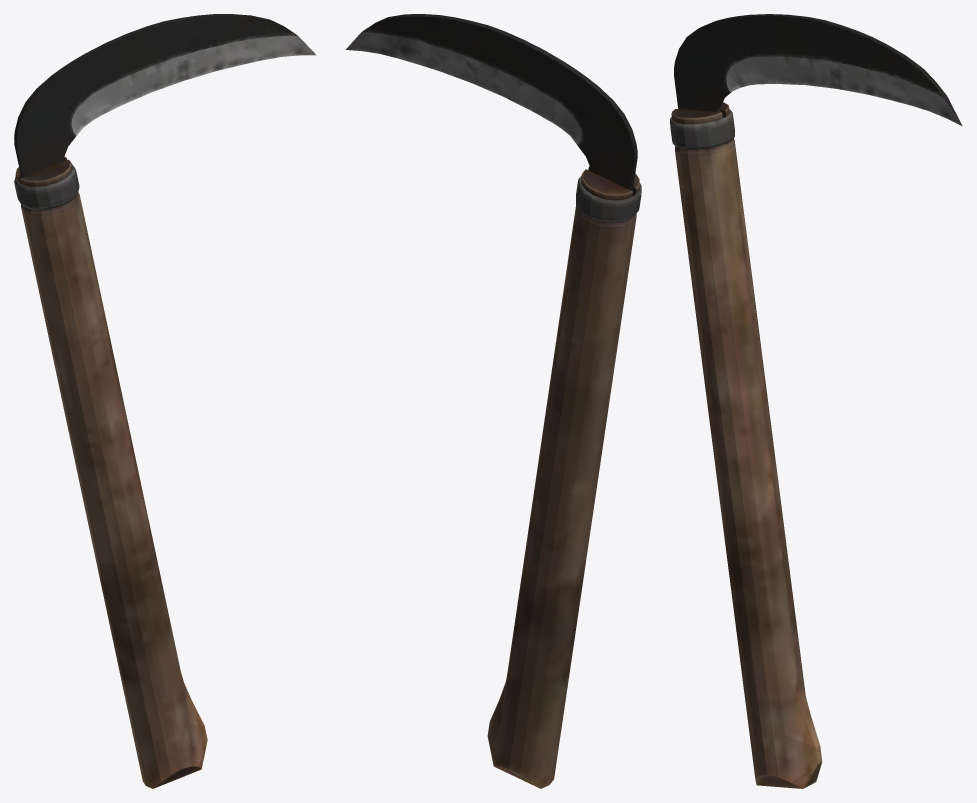
File: sickle.glb
The picture shows the model from 3 angles, left to right: view 1: azimuth 30°, elevation 25°; view 2: azimuth 150°, elevation 25°; view 3: azimuth 330°, elevation 25°; orthographic projection. The views are drawn at different scales.
Visible parts, largest first — view 1: gun_dildo2; view 2: gun_dildo2; view 3: gun_dildo2.
Part boxes in pixels (x1=…): gun_dildo2: x1=14, y1=14, x2=316, y2=788; gun_dildo2: x1=345, y1=14, x2=641, y2=788; gun_dildo2: x1=670, y1=14, x2=962, y2=788.
Bounding box in the file's own units: 0.3571 × 0.8658 × 0.1103.
Materials: 1 (1 with a texture image).
